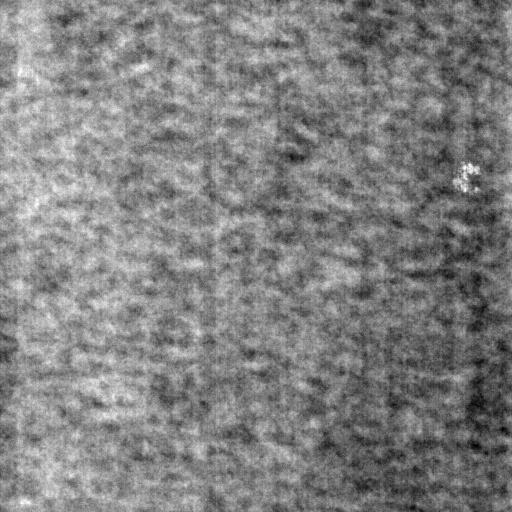stain: (447, 159, 485, 201)
